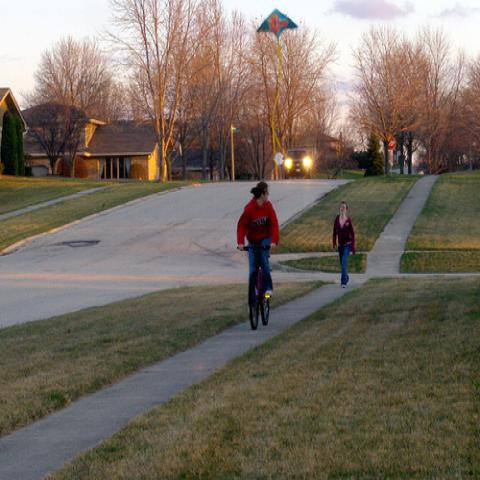car: (284, 148, 312, 180)
